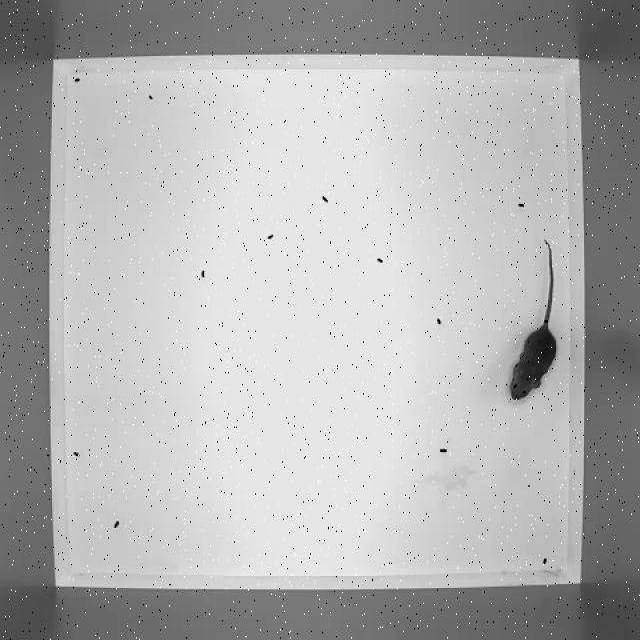rat: (502, 233, 574, 415)
